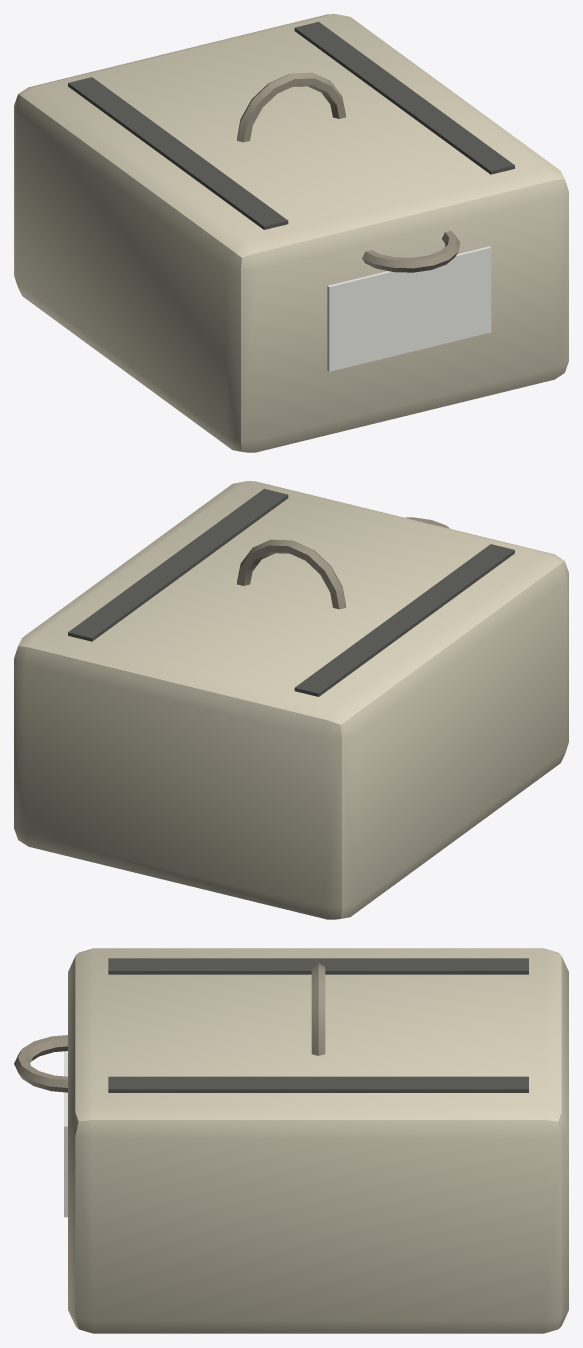
Rendered from SM_BTC_1.fbx.
3 views of the same model, one above another, from view 1: azimuth 30°, elevation 25°; view 2: azimuth 150°, elevation 25°; view 3: azimuth 270°, elevation 25° (orthographic). The views are drawn at different scales.
Parts seen in each view (by area): view 1: SM_BTC_1; view 2: SM_BTC_1; view 3: SM_BTC_1.
Boxes of the visible parts, <box> form: SM_BTC_1: <box>14,14,568,452</box>; SM_BTC_1: <box>14,481,568,919</box>; SM_BTC_1: <box>14,948,568,1333</box>.
Size of the model in its own units: 0.42 by 0.314 by 0.554.
